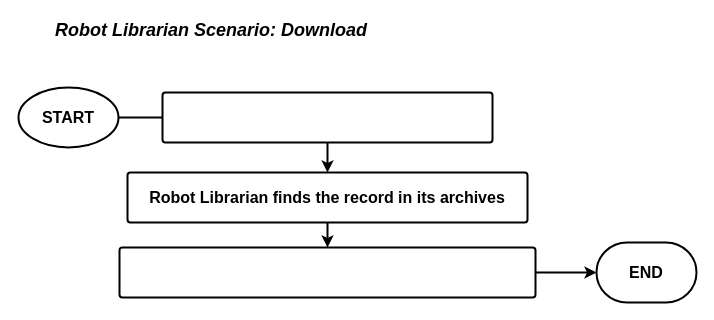
This 714x320 diagram has some shape labels left out. The centre of each missing label's shape, as x and y in pixels:
"Robot Librarian returns the record to the System" belongs at point 327,272.
"System queries the Robot Librarian" belongs at point 327,117.
